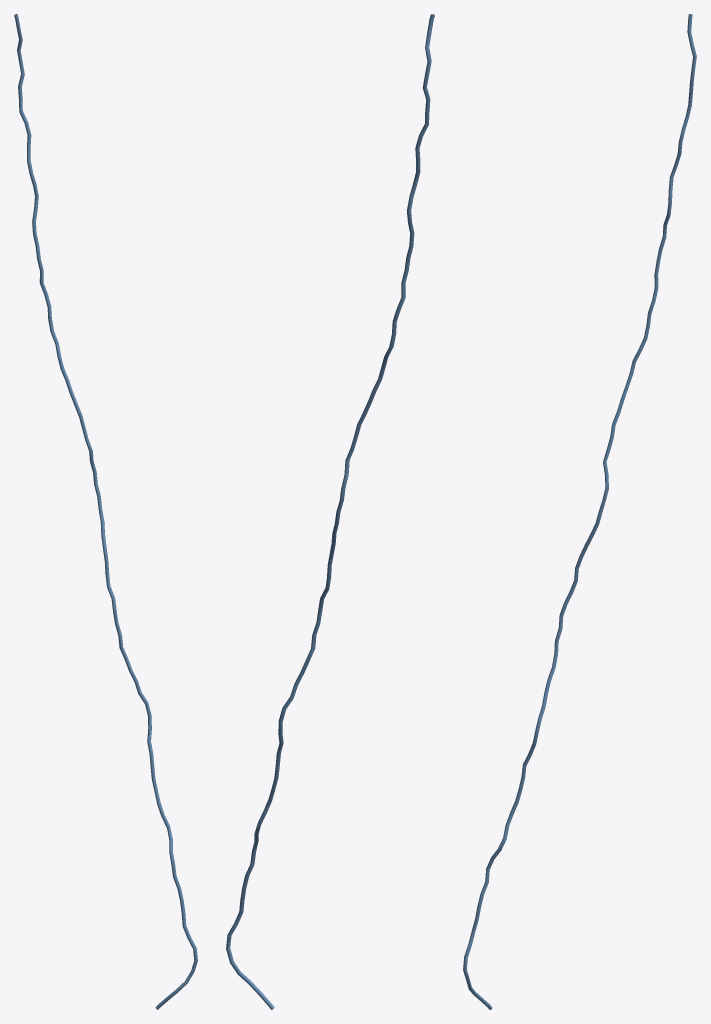
The model's file is sweep303.fbx.
3 renders of one model, left to right at view 1: azimuth 30°, elevation 25°; view 2: azimuth 210°, elevation 25°; view 3: azimuth 270°, elevation 25°, orthographic. The views are drawn at different scales.
Visible parts, largest first — view 1: sweep303; view 2: sweep303; view 3: sweep303.
Boxes of the visible parts, x1=… form: sweep303: x1=14, y1=14, x2=197, y2=1009; sweep303: x1=226, y1=14, x2=434, y2=1009; sweep303: x1=463, y1=14, x2=696, y2=1009.
Bounding box in the file's own units: 0.453 × 5.42 × 1.18.
